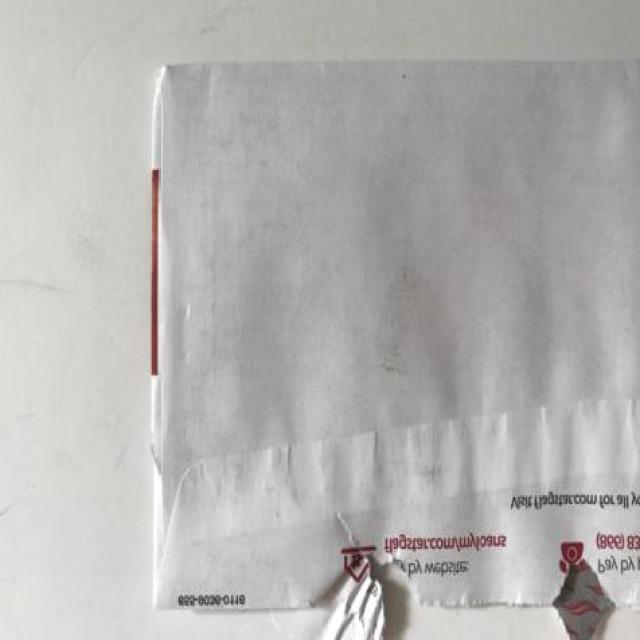kertas: (147, 59, 640, 640)
